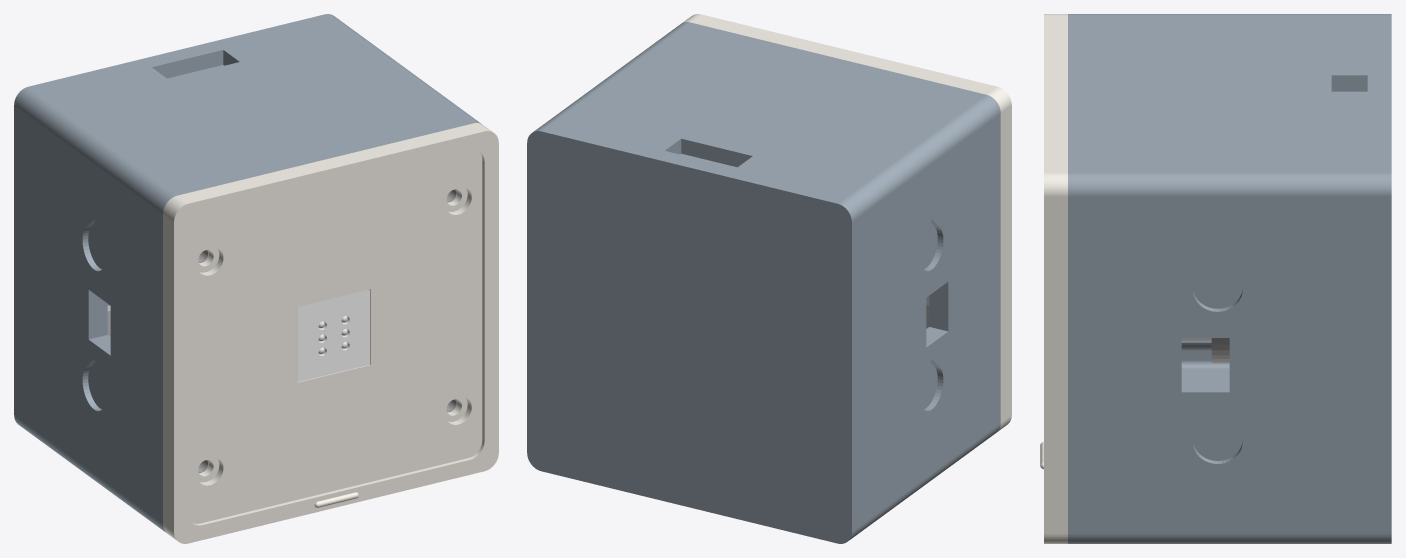
File: braillix.glb
3 renders of one model, left to right at view 1: azimuth 30°, elevation 25°; view 2: azimuth 150°, elevation 25°; view 3: azimuth 270°, elevation 25°, orthographic. The views are drawn at different scales.
Parts seen in each view (by area): view 1: top_plate, outer_box, dot_insert; view 2: outer_box, top_plate; view 3: outer_box, top_plate, mid_plate.
Boxes of the visible parts, x1,y1,x2,y2 form: top_plate: [163, 123, 498, 543]; outer_box: [14, 14, 481, 532]; dot_insert: [298, 289, 369, 381]; outer_box: [527, 22, 1000, 543]; top_plate: [682, 14, 1011, 431]; outer_box: [1068, 14, 1391, 543]; top_plate: [1040, 14, 1067, 543]; mid_plate: [1211, 338, 1229, 363].
Size of the model in its own units: 68 by 69.41 by 58.59.
